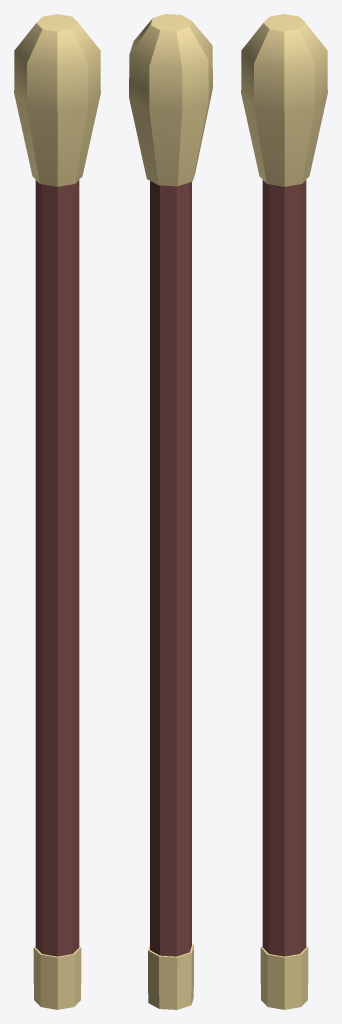
File: Sceptre 1.fbx
3 renders of one model, left to right at view 1: azimuth 90°, elevation 25°; view 2: azimuth 150°, elevation 25°; view 3: azimuth 270°, elevation 25°, orthographic.
Visible parts, largest first — view 1: pCylinder1; view 2: pCylinder1; view 3: pCylinder1.
Boxes of the visible parts, box(x1,y1,x2,y2) form: pCylinder1: box(14, 14, 100, 1009); pCylinder1: box(129, 14, 212, 1009); pCylinder1: box(241, 14, 327, 1009).
Size of the model in its own units: 1.11 by 13.84 by 1.11.
